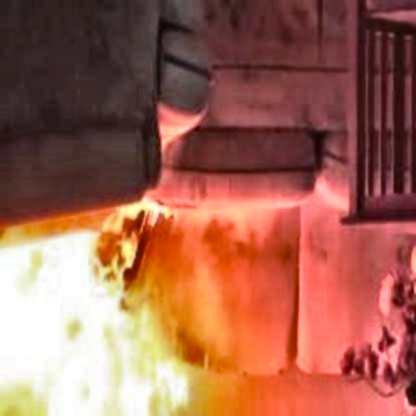fire: (0, 199, 209, 416)
